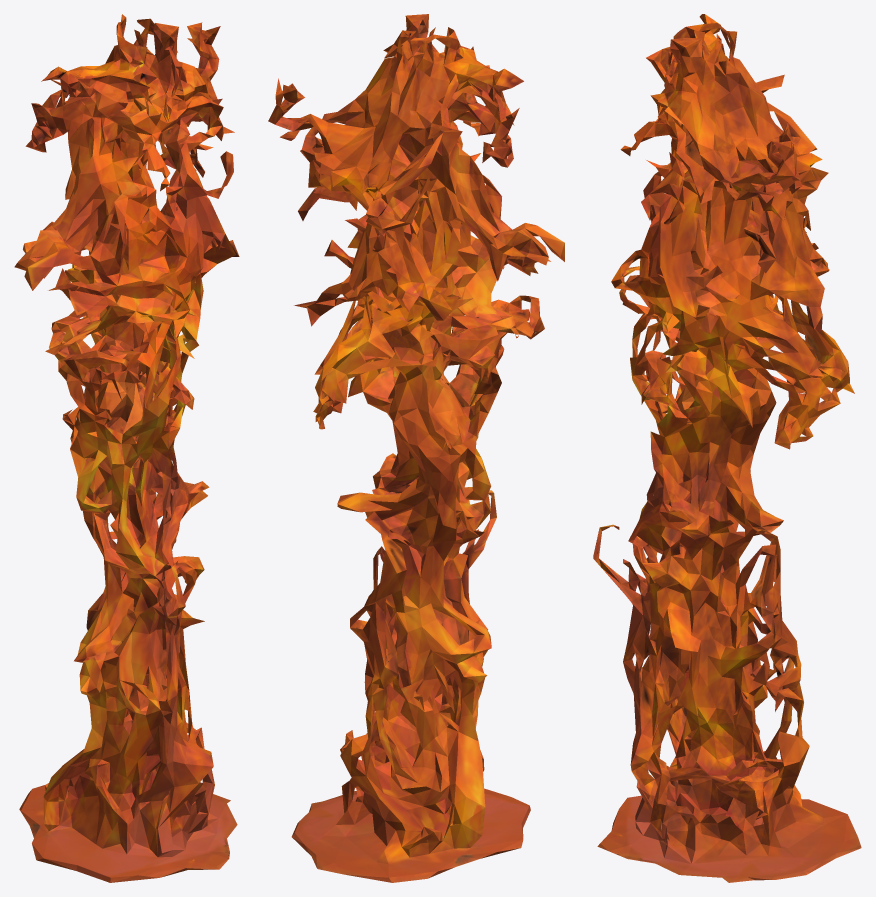
Rendered from fire.fbx.
3 renders of one model, left to right at view 1: azimuth 30°, elevation 25°; view 2: azimuth 150°, elevation 25°; view 3: azimuth 270°, elevation 25°, orthographic. The views are drawn at different scales.
Parts seen in each view (by area): view 1: temp; view 2: temp; view 3: temp.
Part boxes in pixels (<box>): temp: <box>14,14,239,882</box>; temp: <box>268,14,564,882</box>; temp: <box>593,14,861,882</box>.
Size of the model in its own units: 62.43 by 200 by 60.24.
1 material, 1 textured.
